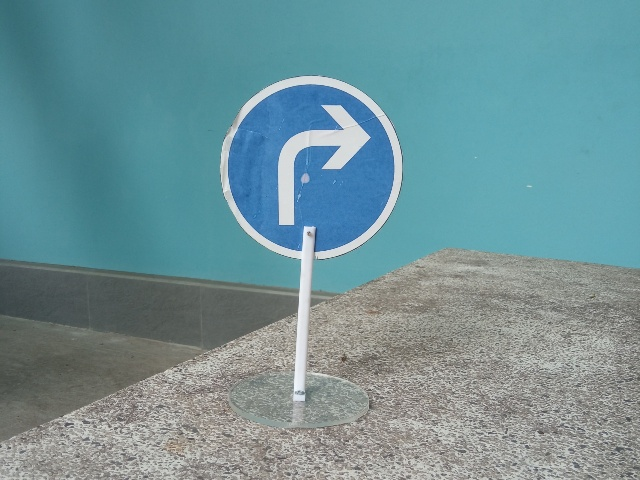Right_Sign: (220, 75, 403, 260)
